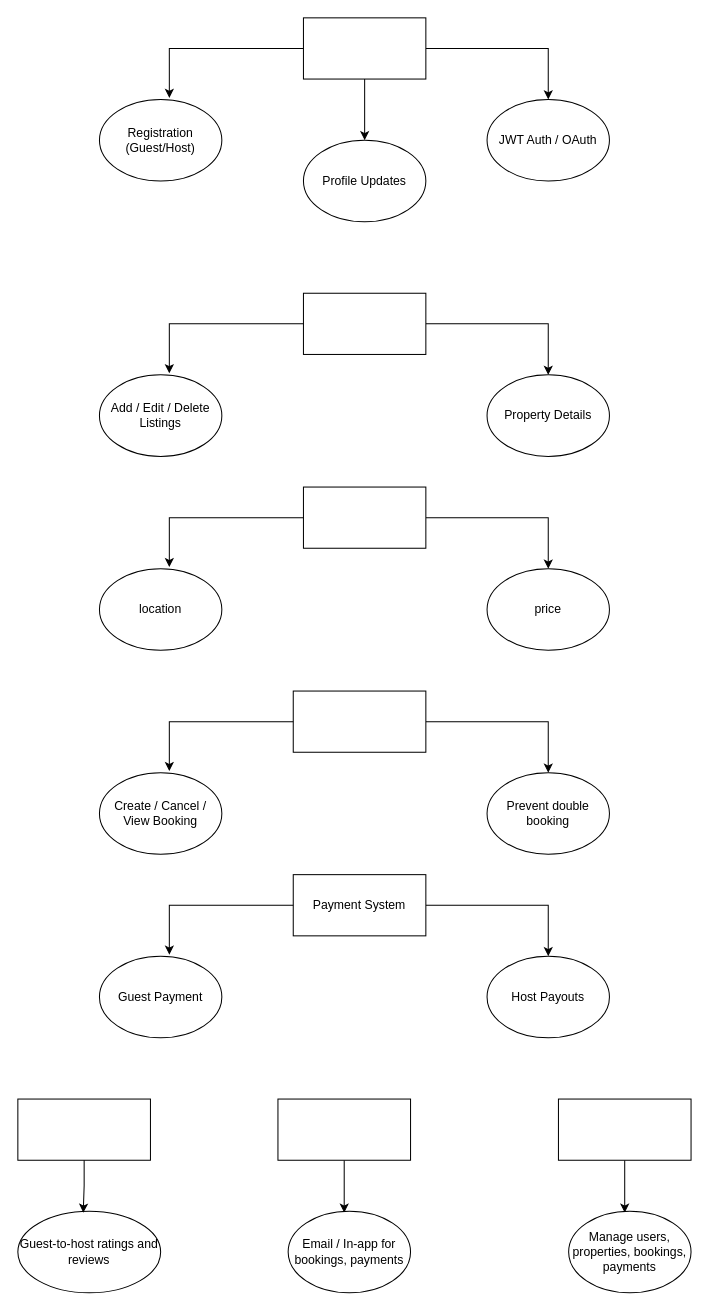
Some shapes in this 709 by 1311 pixel diagram are drawn without their labels. The shapes that lost their labels are listed below. From the top down, each one's box as (x1, y1, x2, y2) in pixels, then its label:
(302, 17, 426, 79): User Management
(302, 292, 426, 354): Property Listings
(302, 486, 426, 548): Search & Filter
(292, 690, 426, 752): Booking Management
(17, 1098, 150, 1160): Reviews
(277, 1098, 411, 1160): Notifications
(557, 1098, 691, 1160): Admin Panel
